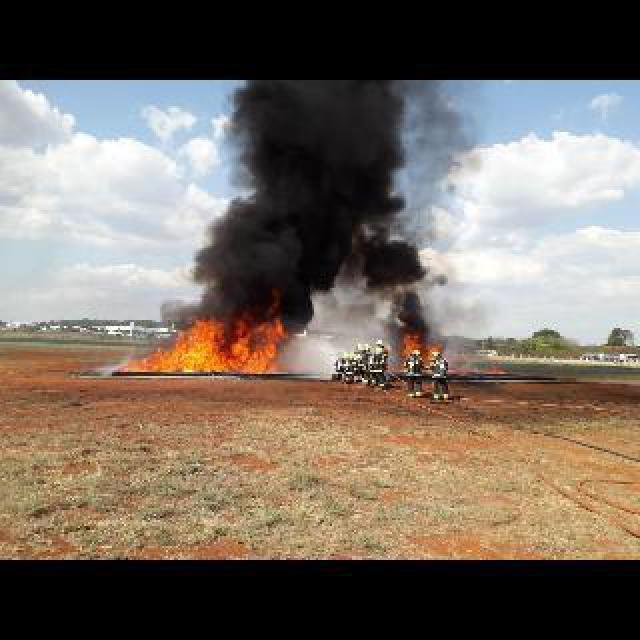Fire: (126, 310, 288, 376), (402, 334, 426, 352), (426, 344, 438, 360), (490, 366, 504, 374)
Smoke: (188, 80, 404, 320), (382, 282, 436, 340)
